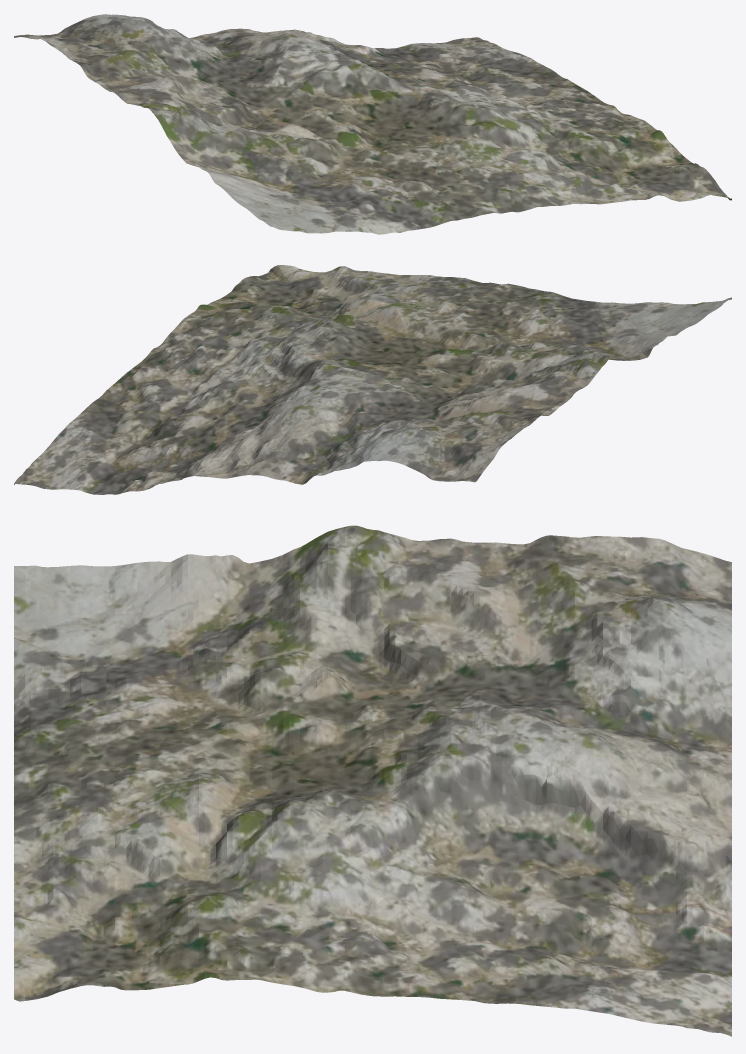
The picture shows the model from 3 angles, top to bottom: view 1: azimuth 30°, elevation 25°; view 2: azimuth 150°, elevation 25°; view 3: azimuth 270°, elevation 25°; orthographic projection. The views are drawn at different scales.
Size of the model in its own units: 250 by 73.55 by 241.
1 material, 1 textured.
